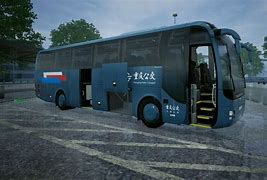bigcar: (31, 17, 243, 129)
